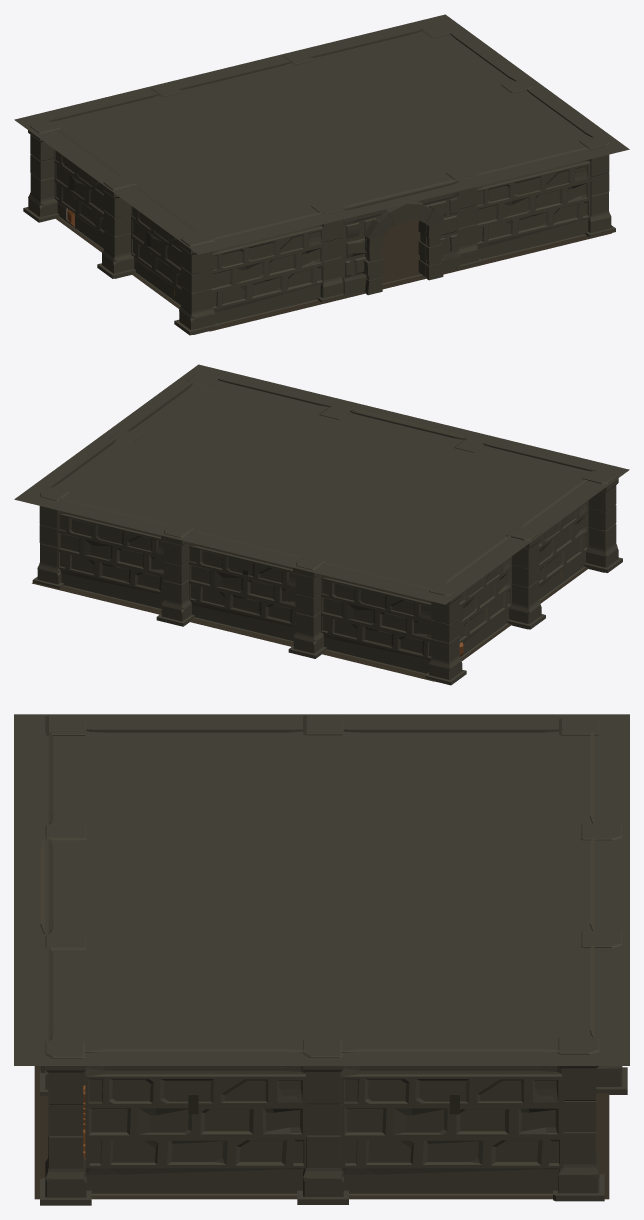
Rendered from 1komnata1lvl.fbx.
The picture shows the model from 3 angles, top to bottom: view 1: azimuth 30°, elevation 25°; view 2: azimuth 150°, elevation 25°; view 3: azimuth 270°, elevation 25°; orthographic projection. The views are drawn at different scales.
Visible parts, largest first — view 1: криша, Plane.013, Plane.012, Plane.490, Plane.001, Plane.003, Plane, Cube.006, Cube.005, Cube.007, Cube.013, Cube.017 (+4 smaller); view 2: криша, Plane.004, Plane.005, Plane.006, Plane.003, Plane, Cube.007, Cube.009, Cube.008, Cube.005, Plane.001, Cube.010 (+3 smaller); view 3: криша, Plane.010, Plane.009, Cube.013, Cube.014, Cube.010, Plane.001, Cube.009, Cube.016, Plane.003, Plane, Cube.017 (+4 smaller).
Part boxes in pixels (<box>): криша: <box>14,14,629,254</box>; Plane.013: <box>475,147,590,260</box>; Plane.012: <box>209,212,324,324</box>; Plane.490: <box>343,181,459,295</box>; Plane.001: <box>55,217,611,331</box>; Plane.003: <box>54,128,120,250</box>; Plane: <box>131,185,196,306</box>; Cube.006: <box>97,176,135,278</box>; Cube.005: <box>174,232,215,335</box>; Cube.007: <box>23,119,60,222</box>; Cube.013: <box>579,136,615,236</box>; Cube.017: <box>311,201,348,302</box>; криша: <box>14,364,629,604</box>; Plane.004: <box>320,562,434,674</box>; Plane.005: <box>188,530,302,642</box>; Plane.006: <box>57,498,171,610</box>; Plane.003: <box>445,536,511,658</box>; Plane: <box>523,480,588,600</box>; Cube.007: <box>425,583,466,685</box>; Cube.009: <box>156,523,194,626</box>; Cube.008: <box>288,556,326,658</box>; Cube.005: <box>584,470,622,572</box>; Plane.001: <box>32,567,588,681</box>; Cube.010: <box>32,487,69,588</box>; криша: <box>14,714,629,1065</box>; Plane.010: <box>341,1049,563,1195</box>; Plane.009: <box>85,1049,306,1195</box>; Cube.013: <box>40,1040,91,1205</box>; Cube.014: <box>297,1039,348,1204</box>; Cube.010: <box>553,1037,604,1201</box>; Plane.001: <box>34,1066,609,1199</box>; Cube.009: <box>581,931,627,1094</box>; Cube.016: <box>40,932,86,1095</box>; Plane.003: <box>343,729,562,732</box>; Plane: <box>86,729,305,732</box>; Cube.017: <box>45,822,86,840</box>.
Size of the model in its own units: 4081 by 848 by 3017.
